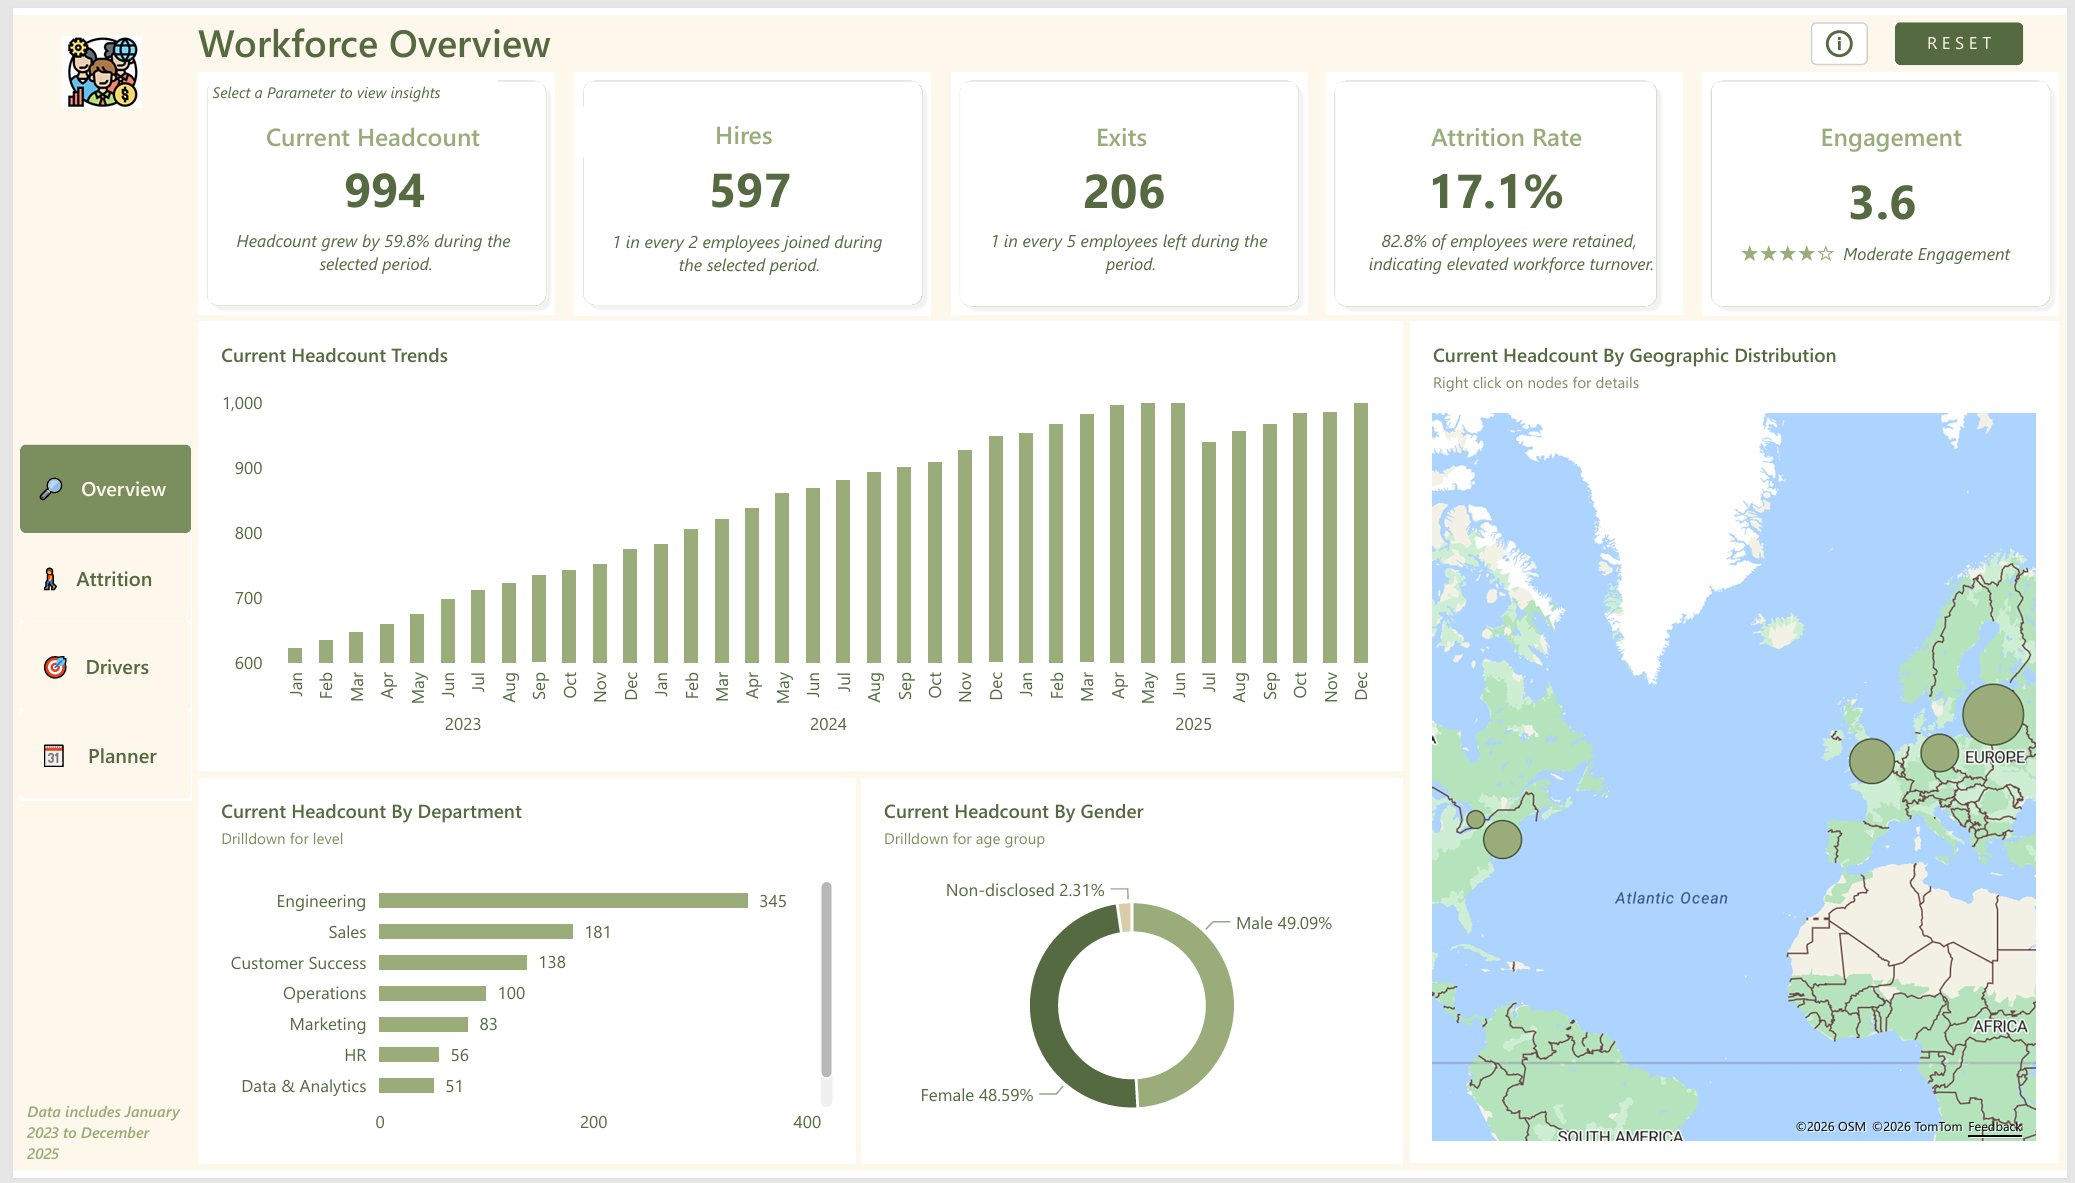

The dashboard page shown, as its layout file describes it:
{"tool":"powerbi","page":{"name":"🔎   Overview","canvas":[1440,810],"ordinal":0},"visuals":[{"type":"shape","box":[130,40,250.1,169.8],"z":0,"group":"g1"},{"type":"shape","box":[393.8,40,250,169.3],"z":0,"group":"g6"},{"type":"group","id":"g1","title":"Group 1","box":[130,40,250.1,170],"z":1000},{"type":"shape","box":[1185,40,250,170.1],"z":1000,"group":"g5"},{"type":"group","id":"g2","title":"Group 3","box":[393.8,40,250,170.5],"z":2000},{"type":"card","fields":{"Values":["_Measures.Headcount Current"]},"box":[151.7,90.2,217.2,65.1],"z":2000,"group":"g1"},{"type":"card","fields":{"Values":["_Measures.Hires (In Period)"]},"box":[401.8,92,229.9,62.1],"z":2000,"group":"g6"},{"type":"group","id":"g3","title":"Group 4","box":[657.5,40,250,170.4],"z":3000},{"type":"card","fields":{"Values":["_Measures.Insight_Headcount"]},"box":[140.4,125.1,229.2,84.9],"z":3000,"group":"g1"},{"type":"card","fields":{"Values":["_Measures.Insight_Hires"]},"box":[401.8,125.9,229.2,84.6],"z":3000,"group":"g6"},{"type":"shape","box":[657.5,40,250,170.1],"z":4000,"group":"g3"},{"type":"group","id":"g4","title":"Group 5","box":[921.3,40,250,170.4],"z":4000},{"type":"textbox","title":"Select a Parameter to view insights","box":[139.7,45.9,200,18],"z":4000,"group":"g1"},{"type":"shape","box":[921.3,40,238.1,170.1],"z":5000,"group":"g4"},{"type":"group","id":"g5","title":"Group 6","box":[1185,40,250,170.8],"z":5000},{"type":"shape","title":"Menu BG","box":[0,0,125,810],"z":6000},{"type":"card","fields":{"Values":["_Measures.Avg Engagement Score"]},"box":[1195.9,99.7,230,62.4],"z":7000,"group":"g5"},{"type":"card","fields":{"Values":["_Measures.Exits"]},"box":[663.5,92,230.4,62.8],"z":8000,"group":"g3"},{"type":"pageNavigator","box":[5.5,300.9,120,250],"z":8000},{"type":"image","box":[35,15,55.9,50],"z":9000},{"type":"card","fields":{"Values":["_Measures.Attrition Rate"]},"box":[931.2,92,219,62.4],"z":9000,"group":"g4"},{"type":"textbox","title":"Workforce Overview","box":[130,0,500.2,35.4],"z":10000},{"type":"card","fields":{"Values":["_Measures.Insight_Engagement"]},"box":[1261.4,130,162.7,80.8],"z":10000,"group":"g5"},{"type":"actionButton","box":[1261.1,5.1,40,30],"z":11000},{"type":"card","fields":{"Values":["_Measures.Insight_Exits"]},"box":[667.9,125.3,229.2,85.1],"z":11000,"group":"g3"},{"type":"actionButton","box":[1319.7,5.1,90,30],"z":12000},{"type":"card","fields":{"Values":["_Measures.Insight_AttritionRate"]},"box":[931.2,125.3,240.1,85.1],"z":12000,"group":"g4"},{"type":"card","fields":{"Values":["_Measures.Engagement Stars"]},"box":[1195.5,145,99.7,45],"z":13000,"group":"g5"},{"type":"azureMap","title":"Current Headcount By Geographic Distribution","fields":{"Category":["DimLocation.Location"],"Size":["_Measures.Headcount Current"],"X":["Avg(DimLocation.Longitude)"],"Y":["Avg(DimLocation.Latitude)"]},"box":[980,215.5,455,590],"z":13000},{"type":"clusteredBarChart","title":"Current Headcount By Department","fields":{"Category":["DimEmployee.Dept Drilldown.Department","DimEmployee.Dept Drilldown.Level"],"Y":["_Measures.Headcount Current"]},"box":[130,535,460.7,270],"z":14000},{"type":"donutChart","title":"Current Headcount By Gender","fields":{"Category":["DimEmployee.Demographics.Gender","DimEmployee.Demographics.Age Band"],"Y":["_Measures.Headcount Current"]},"box":[595,535,379.7,270],"z":15000},{"type":"clusteredColumnChart","title":"Current Headcount Trends","fields":{"Category":["DimDate.Year","DimDate.MonthName"],"Y":["_Measures.Headcount"]},"box":[130,215,845,315],"z":16000},{"type":"actionButton","title":"Hires","box":[400,65,225.3,35],"z":33000},{"type":"actionButton","title":"Exits","box":[680,65,195,40],"z":34000},{"type":"actionButton","title":"Attrition Rate","box":[950,65,195,40],"z":35000},{"type":"actionButton","title":"Engagement","box":[1220,65.1,195,40],"z":36000},{"type":"actionButton","title":"Current Headcount","box":[154.7,65,195,40],"z":37000},{"type":"textbox","title":"Data includes January 2023 to December 2025","box":[10.2,760,110,50],"z":37001},{"type":"group","id":"g6","title":"Group 2","box":[393.8,40,250,170.5],"z":43001,"group":"g2"}]}

Visuals, with their boxes in screenshot pixels (x1, y1, x2, y2), scaled from the page's 1440x810 canvas onto the 2075x1183 screenshot:
shape: bbox=[187, 58, 548, 306]
shape: bbox=[567, 58, 928, 306]
"Group 1" group: bbox=[187, 58, 548, 307]
shape: bbox=[1708, 58, 2068, 307]
"Group 3" group: bbox=[567, 58, 928, 307]
card - _Measures.Headcount Current: bbox=[219, 132, 532, 227]
card - _Measures.Hires (In Period): bbox=[579, 134, 910, 225]
"Group 4" group: bbox=[947, 58, 1308, 307]
card - _Measures.Insight_Headcount: bbox=[202, 183, 533, 307]
card - _Measures.Insight_Hires: bbox=[579, 184, 909, 307]
shape: bbox=[947, 58, 1308, 307]
"Group 5" group: bbox=[1328, 58, 1688, 307]
"Select a Parameter to view insights" textbox: bbox=[201, 67, 489, 93]
shape: bbox=[1328, 58, 1671, 307]
"Group 6" group: bbox=[1708, 58, 2068, 308]
"Menu BG" shape: bbox=[0, 0, 180, 1182]
card - _Measures.Avg Engagement Score: bbox=[1723, 146, 2055, 237]
card - _Measures.Exits: bbox=[956, 134, 1288, 226]
pageNavigator: bbox=[8, 439, 181, 805]
image: bbox=[50, 22, 131, 95]
card - _Measures.Attrition Rate: bbox=[1342, 134, 1657, 226]
"Workforce Overview" textbox: bbox=[187, 0, 908, 52]
card - _Measures.Insight_Engagement: bbox=[1818, 190, 2052, 308]
actionButton: bbox=[1817, 7, 1875, 51]
card - _Measures.Insight_Exits: bbox=[962, 183, 1293, 307]
actionButton: bbox=[1902, 7, 2031, 51]
card - _Measures.Insight_AttritionRate: bbox=[1342, 183, 1688, 307]
card - _Measures.Engagement Stars: bbox=[1723, 212, 1866, 277]
"Current Headcount By Geographic Distribution" azureMap: bbox=[1412, 315, 2068, 1176]
"Current Headcount By Department" clusteredBarChart: bbox=[187, 781, 851, 1176]
"Current Headcount By Gender" donutChart: bbox=[857, 781, 1405, 1176]
"Current Headcount Trends" clusteredColumnChart: bbox=[187, 314, 1405, 774]
"Hires" actionButton: bbox=[576, 95, 901, 146]
"Exits" actionButton: bbox=[980, 95, 1261, 153]
"Attrition Rate" actionButton: bbox=[1369, 95, 1650, 153]
"Engagement" actionButton: bbox=[1758, 95, 2039, 153]
"Current Headcount" actionButton: bbox=[223, 95, 504, 153]
"Data includes January 2023 to December 2025" textbox: bbox=[15, 1110, 173, 1182]
"Group 2" group: bbox=[567, 58, 928, 307]
